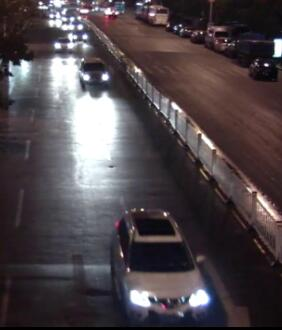bus: (144, 2, 172, 28)
car: (104, 203, 216, 326), (76, 54, 113, 90), (246, 55, 279, 79), (205, 23, 226, 48), (52, 34, 75, 53), (217, 33, 236, 53), (67, 19, 86, 34), (68, 30, 89, 42)
